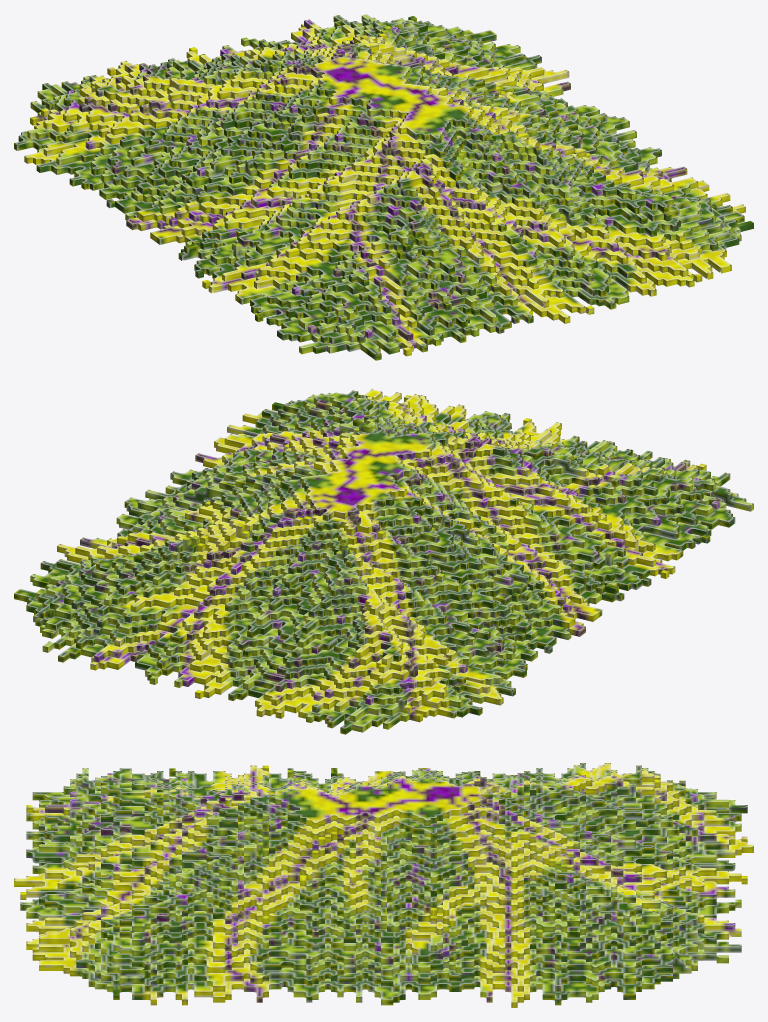
File: Detritoos.fbx
The picture shows the model from 3 angles, top to bottom: view 1: azimuth 30°, elevation 25°; view 2: azimuth 150°, elevation 25°; view 3: azimuth 270°, elevation 25°; orthographic projection.
Visible parts, largest first — view 1: teutoba; view 2: teutoba; view 3: teutoba.
Part boxes in pixels (x1,y1,x2,y2): teutoba: (14, 14, 753, 360); teutoba: (14, 389, 753, 734); teutoba: (14, 763, 753, 1007).
Size of the model in its own units: 910 by 160 by 1190.
Materials: 1 (1 with a texture image).
